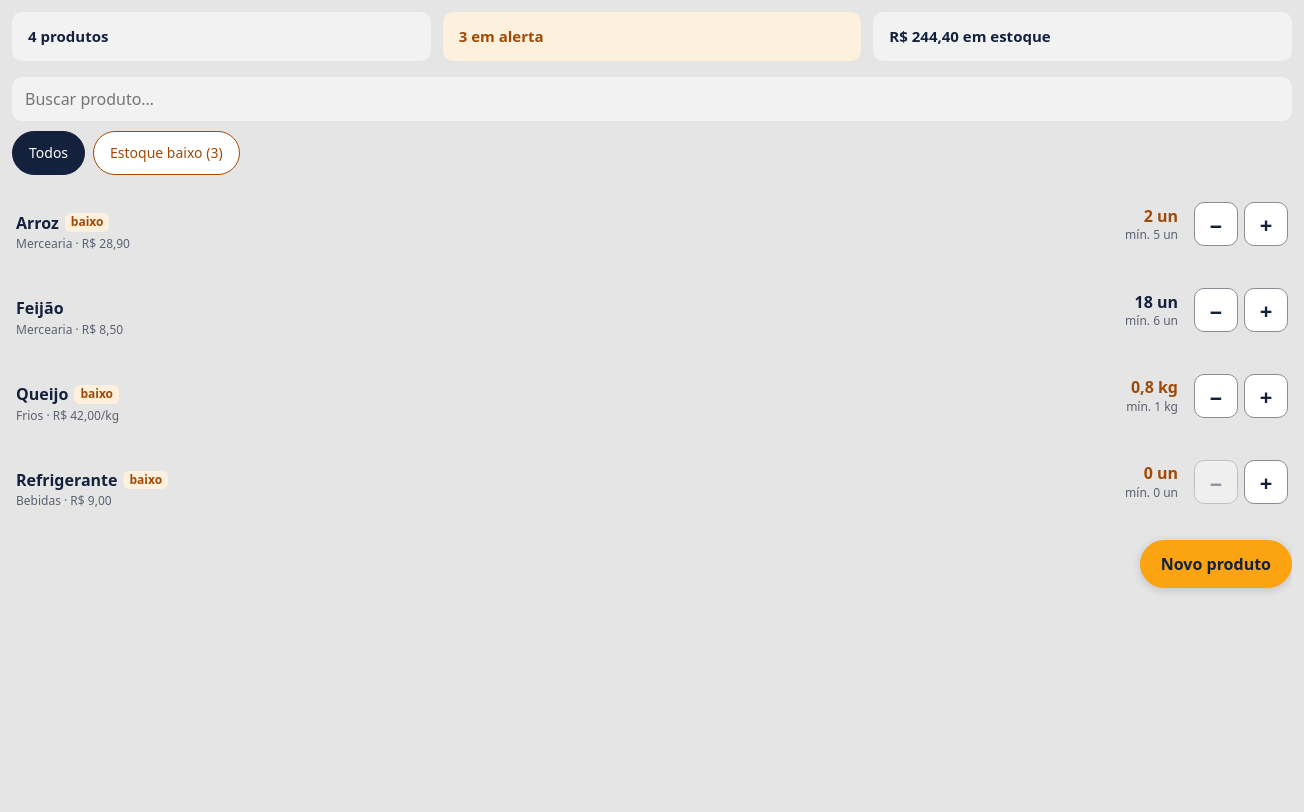
Scenario: busca ignora acento e caixa
Type "feijao" into the search field labelled "Buscar produto" at (652, 99), box [12, 77, 1292, 121]
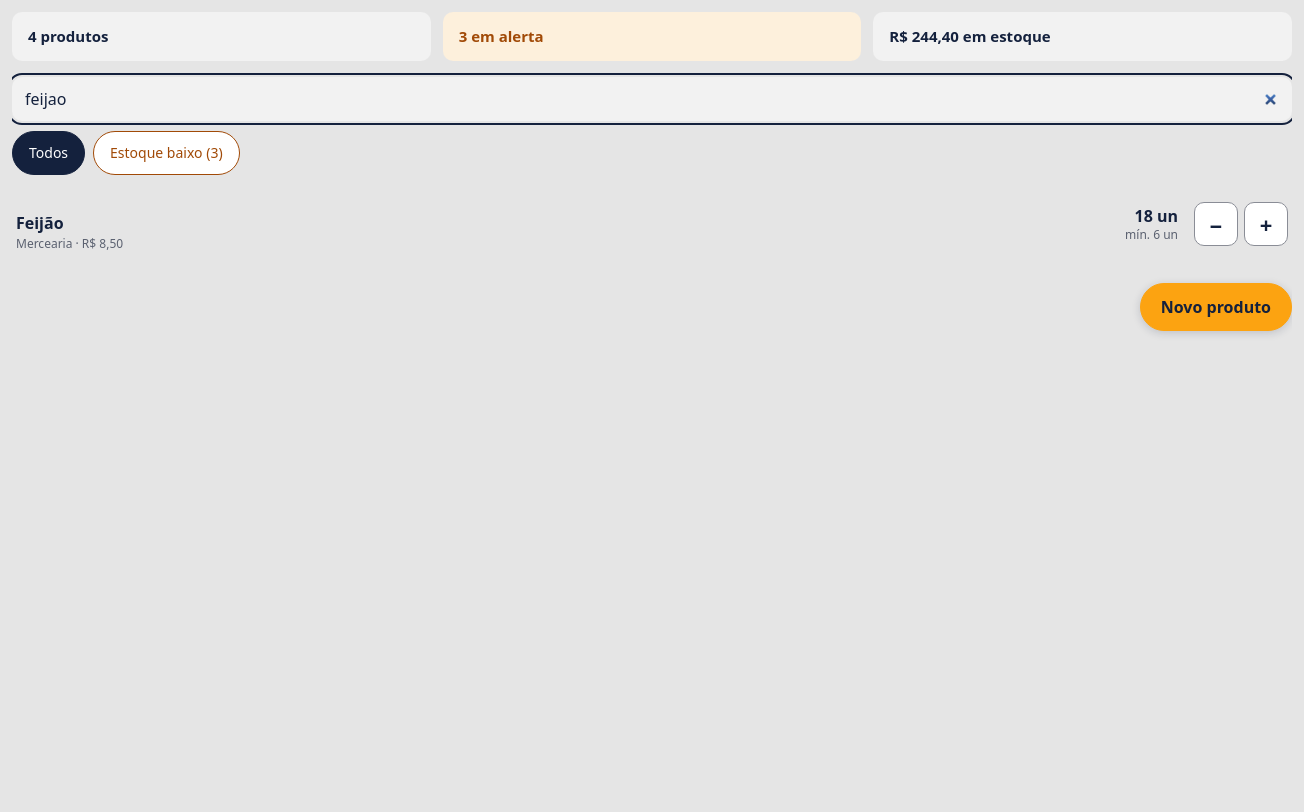
Expected: the button "Feijão" is shown, [16, 192, 64, 236]
Now the number of list items is 1, box [12, 181, 1292, 267]
